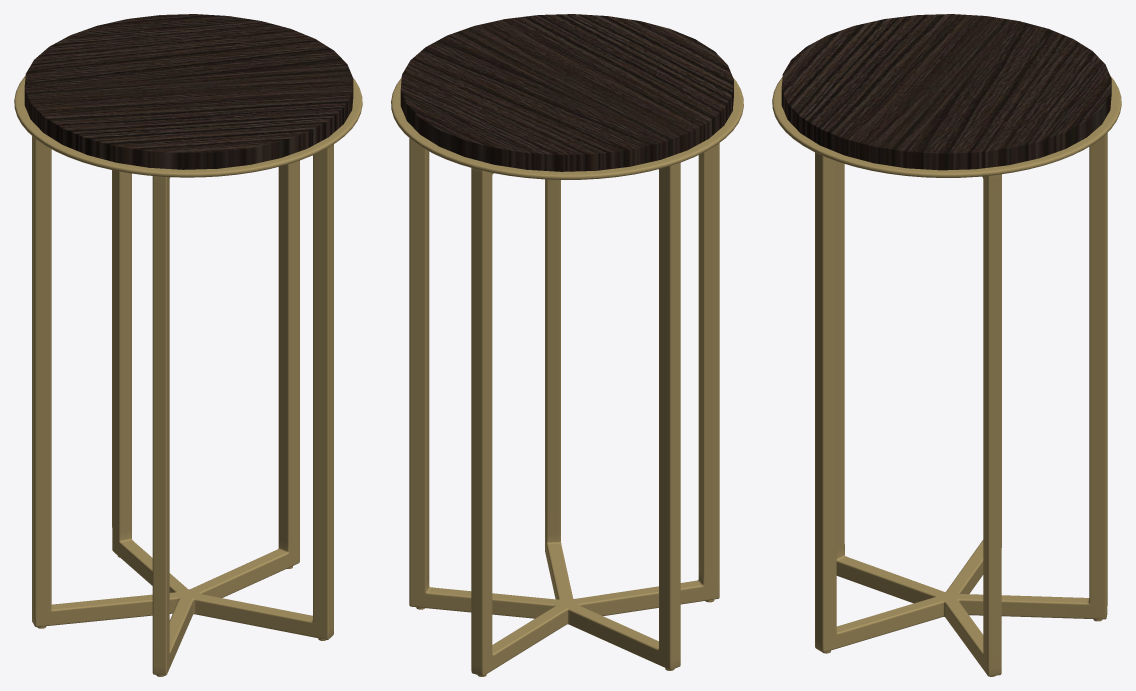
The model's file is concord_side_table_medium.glb.
The picture shows the model from 3 angles, left to right: view 1: azimuth 30°, elevation 25°; view 2: azimuth 150°, elevation 25°; view 3: azimuth 270°, elevation 25°; orthographic projection.
Visible parts, largest first — view 1: Rectangle007, Cylinder027, Cylinder003; view 2: Rectangle007, Cylinder027, Cylinder003; view 3: Rectangle007, Cylinder027, Cylinder003.
Boxes of the visible parts, <box> form: Rectangle007: <box>32,136,333,676</box>; Cylinder027: <box>24,14,353,169</box>; Cylinder003: <box>14,76,362,177</box>; Rectangle007: <box>409,138,719,676</box>; Cylinder027: <box>400,14,733,171</box>; Cylinder003: <box>391,78,743,179</box>; Rectangle007: <box>815,133,1107,676</box>; Cylinder027: <box>781,14,1111,170</box>; Cylinder003: <box>772,75,1121,177</box>.
Bounding box in the file's own units: 0.3802 × 0.6383 × 0.3802.
Materials: 2 (1 with a texture image).
